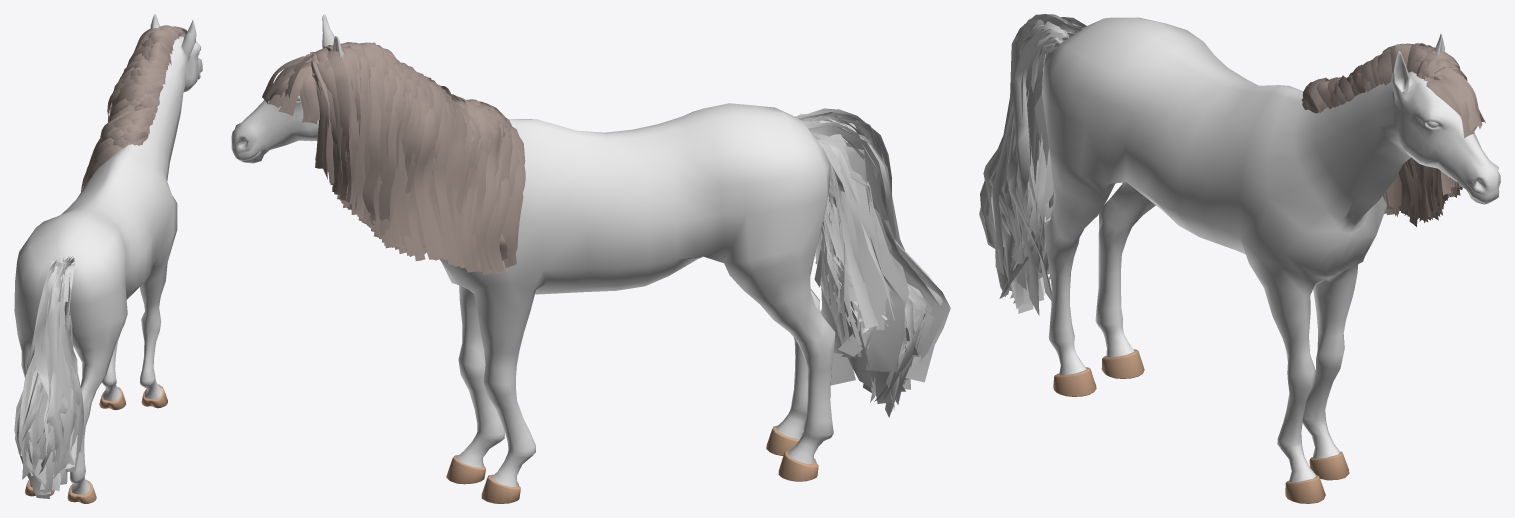
File: Lyra.fbx
The picture shows the model from 3 angles, left to right: view 1: azimuth 30°, elevation 25°; view 2: azimuth 150°, elevation 25°; view 3: azimuth 270°, elevation 25°; orthographic projection. The views are drawn at different scales.
Parts seen in each view (by area): view 1: Trone_Body_Lyra, Trone_Hair_Tail_Trone_Body_Lyra, Trone_Default_mane_Lyra, Trone_Hoof_default_Brown_Lyra; view 2: Trone_Body_Lyra, Trone_Default_mane_Lyra, Trone_Hair_Tail_Trone_Body_Lyra, Trone_Hoof_default_Brown_Lyra, Trone_Default_mane_Hair_Bang_Lyra; view 3: Trone_Body_Lyra, Trone_Hair_Tail_Trone_Body_Lyra, Trone_Default_mane_Lyra, Trone_Hoof_default_Brown_Lyra, Trone_Default_mane_Hair_Bang_Lyra.
Boxes of the visible parts, <box> form: Trone_Body_Lyra: <box>14,14,202,494</box>; Trone_Hair_Tail_Trone_Body_Lyra: <box>14,256,83,498</box>; Trone_Default_mane_Lyra: <box>81,25,178,191</box>; Trone_Hoof_default_Brown_Lyra: <box>25,384,167,503</box>; Trone_Body_Lyra: <box>231,14,835,486</box>; Trone_Default_mane_Lyra: <box>305,42,525,274</box>; Trone_Hair_Tail_Trone_Body_Lyra: <box>794,108,950,417</box>; Trone_Hoof_default_Brown_Lyra: <box>446,425,818,503</box>; Trone_Default_mane_Hair_Bang_Lyra: <box>262,47,331,124</box>; Trone_Body_Lyra: <box>1041,17,1500,482</box>; Trone_Hair_Tail_Trone_Body_Lyra: <box>979,14,1086,315</box>; Trone_Default_mane_Lyra: <box>1301,43,1467,226</box>; Trone_Hoof_default_Brown_Lyra: <box>1053,349,1349,503</box>; Trone_Default_mane_Hair_Bang_Lyra: <box>1416,58,1485,138</box>.
Size of the model in its own units: 237 by 221 by 211.
